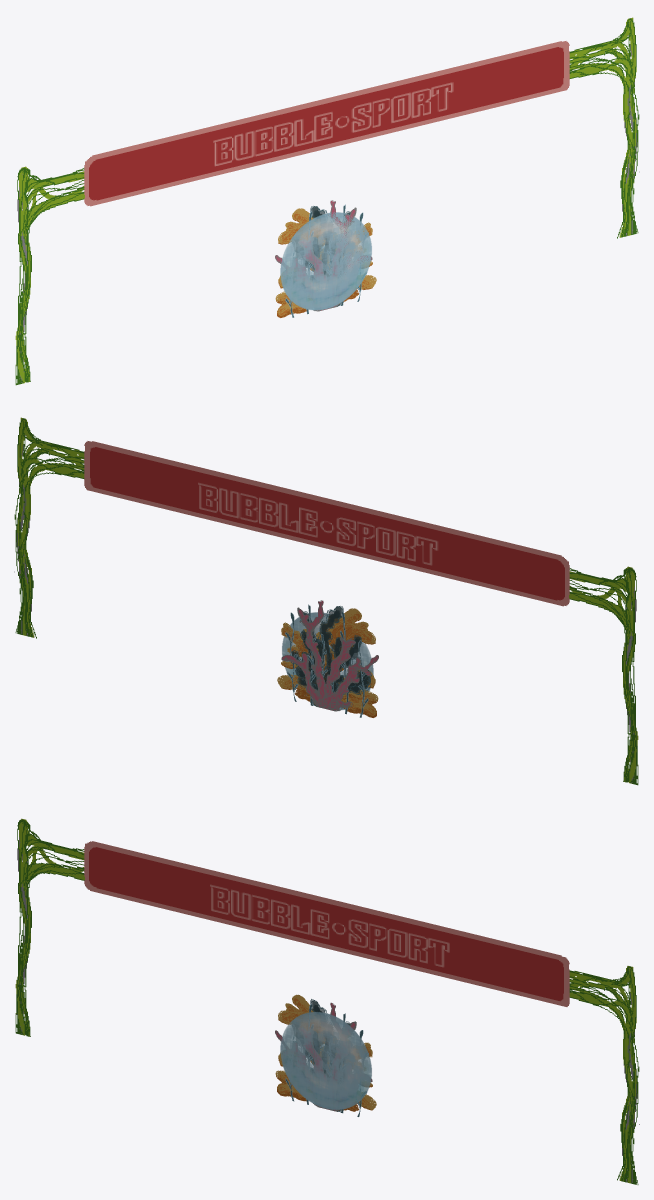
File: env_assets_v0.glb
3 views of the same model, one above another, from view 1: azimuth 30°, elevation 25°; view 2: azimuth 150°, elevation 25°; view 3: azimuth 330°, elevation 25° (orthographic).
Visible parts, largest first — view 1: Goal, Bubble, SeaweedC, coral, SeaweedB; view 2: Goal, coral, SeaweedC, SeaweedB, Bubble, SeaweedA; view 3: Goal, Bubble, SeaweedC, coral, SeaweedB.
Part boxes in pixels (<box>): Goal: <box>15,17,639,385</box>; Bubble: <box>280,212,371,310</box>; SeaweedC: <box>275,208,376,317</box>; coral: <box>275,200,372,311</box>; SeaweedB: <box>294,206,350,306</box>; Goal: <box>14,417,638,785</box>; coral: <box>281,600,378,711</box>; SeaweedC: <box>277,608,378,717</box>; SeaweedB: <box>290,606,371,706</box>; Bubble: <box>282,612,373,710</box>; SeaweedA: <box>285,604,368,717</box>; Goal: <box>15,818,639,1184</box>; Bubble: <box>280,1012,371,1109</box>; SeaweedC: <box>275,994,376,1111</box>; coral: <box>275,1002,372,1111</box>; SeaweedB: <box>294,999,350,1111</box>.
Size of the model in its own units: 5.99 by 2 by 0.0744.
Materials: 6 (6 with a texture image).
